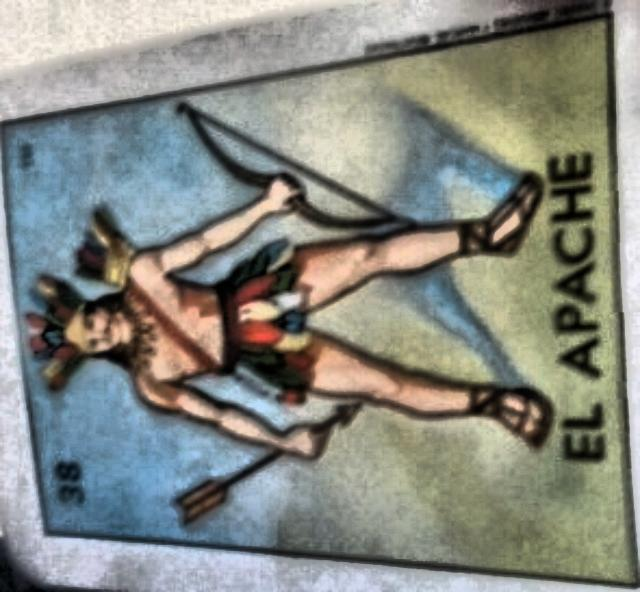El Apache: (5, 20, 638, 581)
